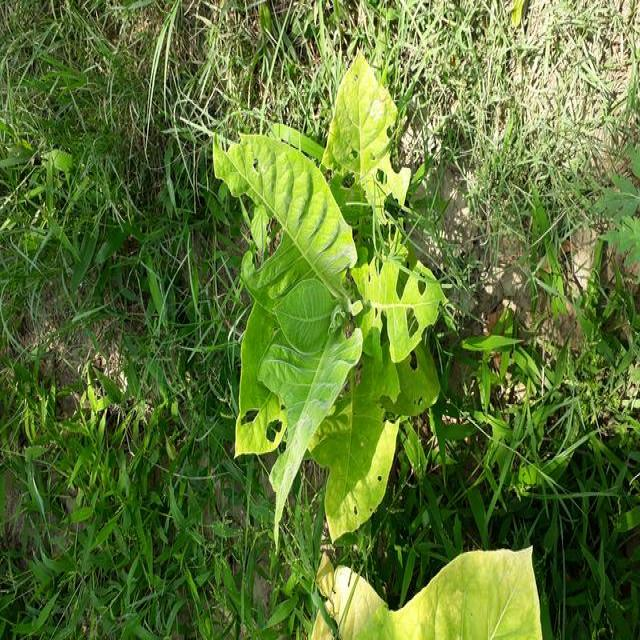crop: (226, 64, 434, 509), (325, 550, 535, 640)
